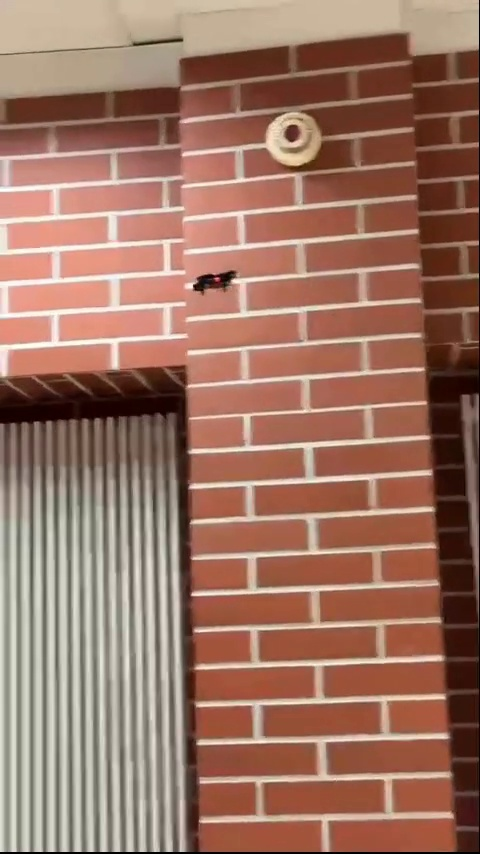drone: (196, 268, 235, 296)
